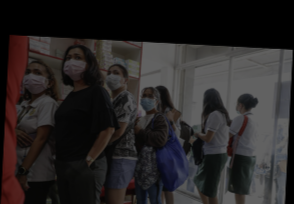with_mask: (22, 65, 49, 94), (61, 51, 87, 81), (105, 68, 123, 90), (139, 91, 156, 111), (234, 100, 243, 115)
